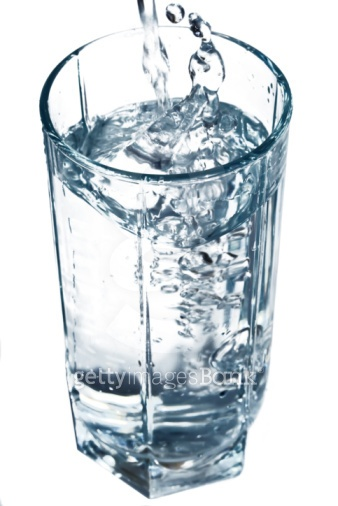glass of water: (41, 26, 293, 498)
